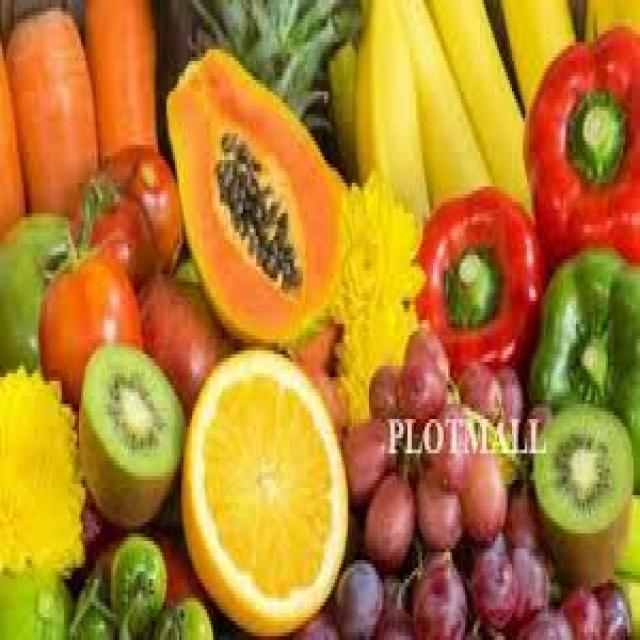organic waste: (162, 46, 339, 343), (177, 343, 348, 636), (523, 23, 638, 274), (525, 243, 638, 488), (414, 183, 544, 373), (184, 0, 356, 141), (331, 168, 422, 422), (428, 0, 529, 213), (74, 339, 186, 526), (2, 0, 92, 225), (407, 0, 493, 210), (534, 396, 630, 583), (0, 358, 83, 572), (352, 0, 426, 232), (38, 247, 139, 403), (73, 145, 179, 293), (138, 270, 232, 412), (0, 210, 75, 370), (83, 0, 156, 160), (218, 145, 296, 282), (90, 526, 207, 606), (499, 0, 573, 114), (38, 168, 116, 270), (0, 556, 73, 636), (60, 461, 113, 568), (109, 534, 164, 636), (363, 465, 414, 571), (410, 545, 465, 636), (458, 442, 504, 545), (465, 541, 516, 629), (0, 34, 23, 224), (324, 34, 354, 179), (412, 461, 458, 552), (342, 415, 388, 503), (333, 556, 382, 636), (427, 396, 469, 484), (501, 472, 542, 548), (394, 362, 444, 423), (454, 354, 500, 419), (510, 545, 546, 621), (72, 568, 111, 636), (286, 328, 341, 373), (557, 579, 597, 636), (580, 0, 638, 38), (490, 358, 520, 431), (403, 324, 446, 373), (593, 579, 629, 636), (514, 602, 570, 636), (171, 591, 213, 636), (365, 362, 401, 411), (312, 366, 344, 419), (521, 396, 548, 454), (373, 602, 410, 636), (292, 610, 337, 636), (151, 602, 173, 636)
